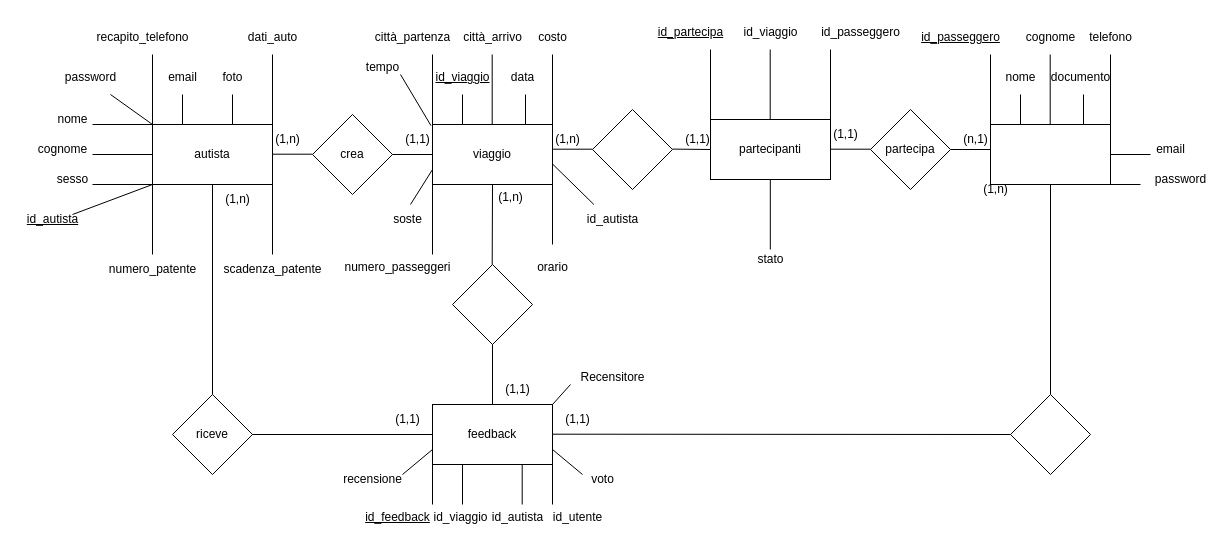
Some shapes in this 1232 by 549 pixel diagram are drawn without their labels. Here are the shapes that lost their labels. From the top down, the box of each, then its label:
(592, 108, 672, 190): appartengono
(990, 124, 1110, 184): passeggero
(452, 264, 532, 344): valuta
(1010, 394, 1090, 474): ottiene
